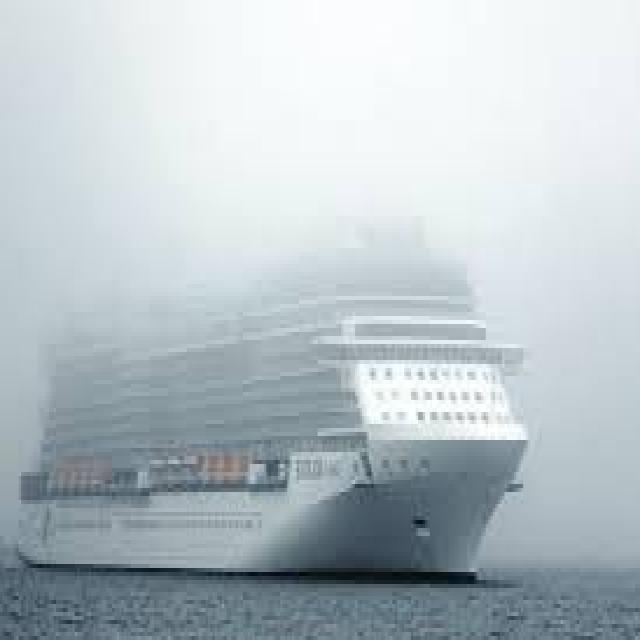passenger ship: (9, 191, 541, 568)
